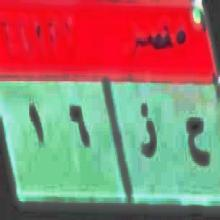1: (24, 104, 46, 153)
6: (69, 95, 94, 162)
7aa: (182, 109, 209, 172)
zay: (139, 100, 157, 161)
